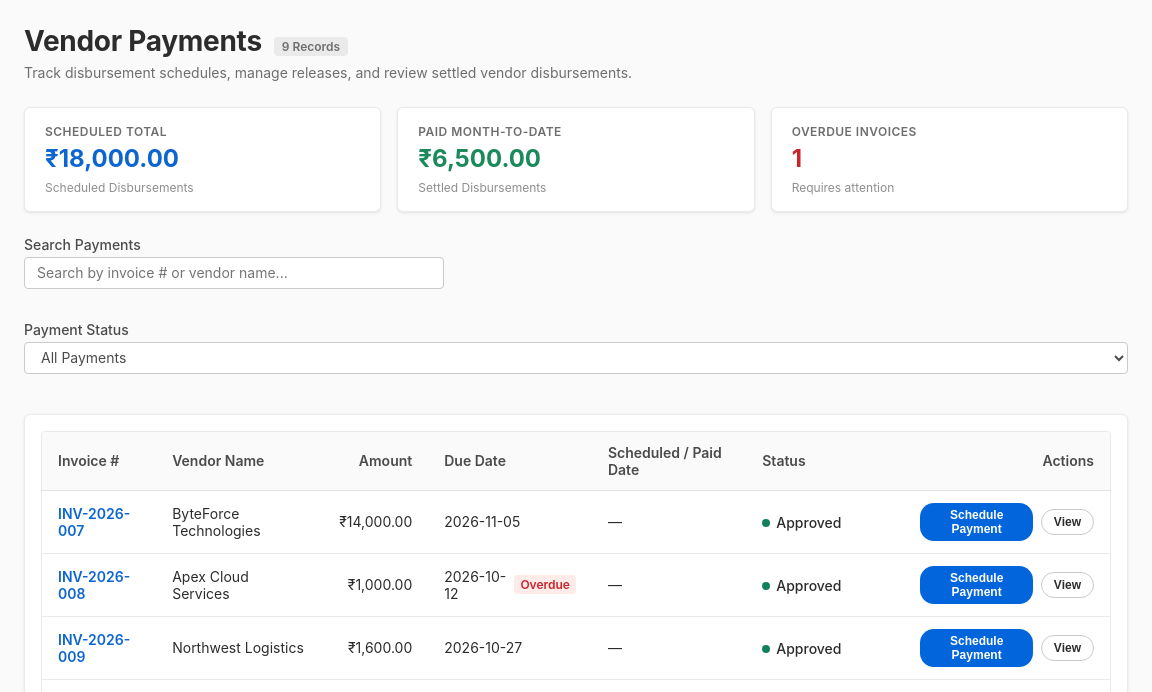
Scenario: PaymentsPage › Filtering & Search › filters payments table by status tabs or select
Expected: the text "INV-2026-007" is shown, [58,505,130,539]
# Filter by Payment Scheduled
Select "Payment Scheduled" in the dropdown with test id "payments-status-filter" at (576, 358), box [24,342,1128,374]
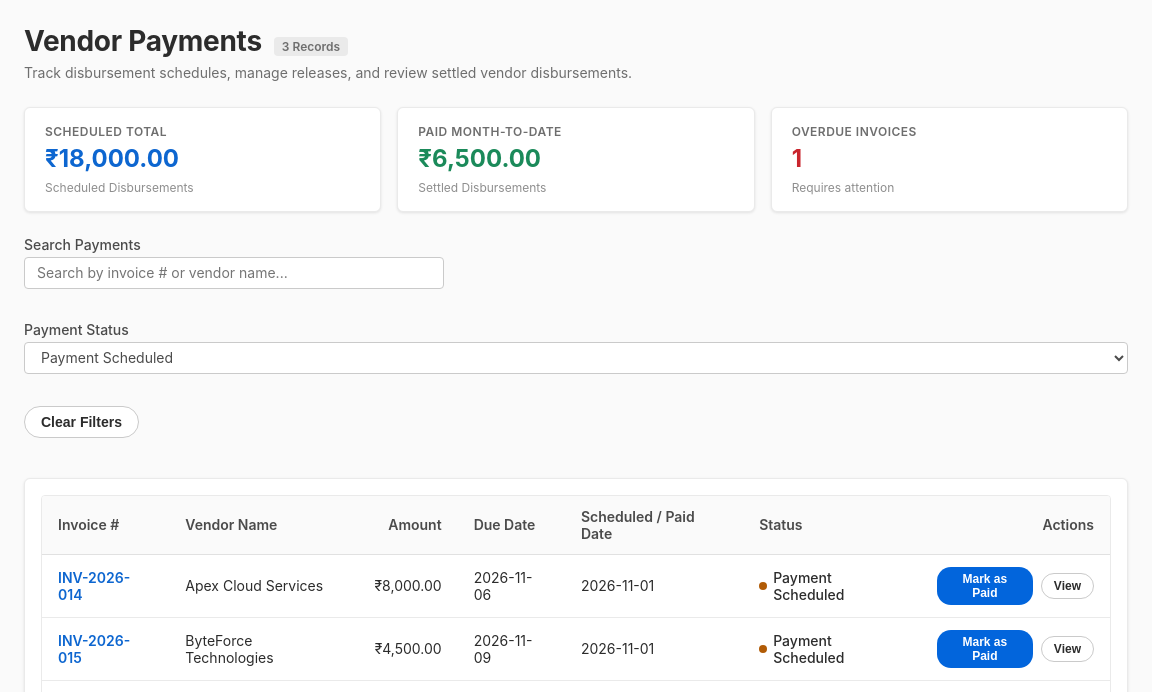
Expected: the text "INV-2026-014" is shown, [58,569,130,603]
Result: the text "INV-2026-007" is gone
# Filter by Paid
Select "Paid" in the dropdown with test id "payments-status-filter" at (576, 358), box [24,342,1128,374]
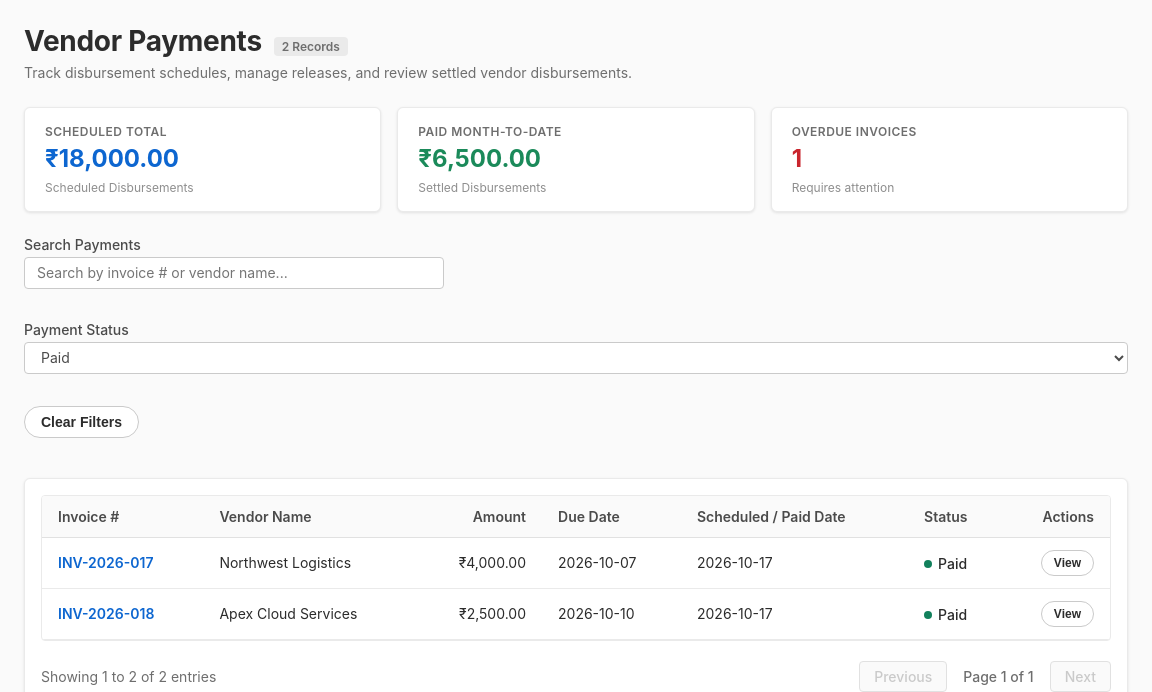
Result: the text "INV-2026-017" is shown at [58,554,154,571]
Result: the text "INV-2026-014" is gone
# Filter by Approved (Awaiting Scheduling)
Select "Approved (Awaiting Scheduling)" in the dropdown with test id "payments-status-filter" at (576, 358), box [24,342,1128,374]
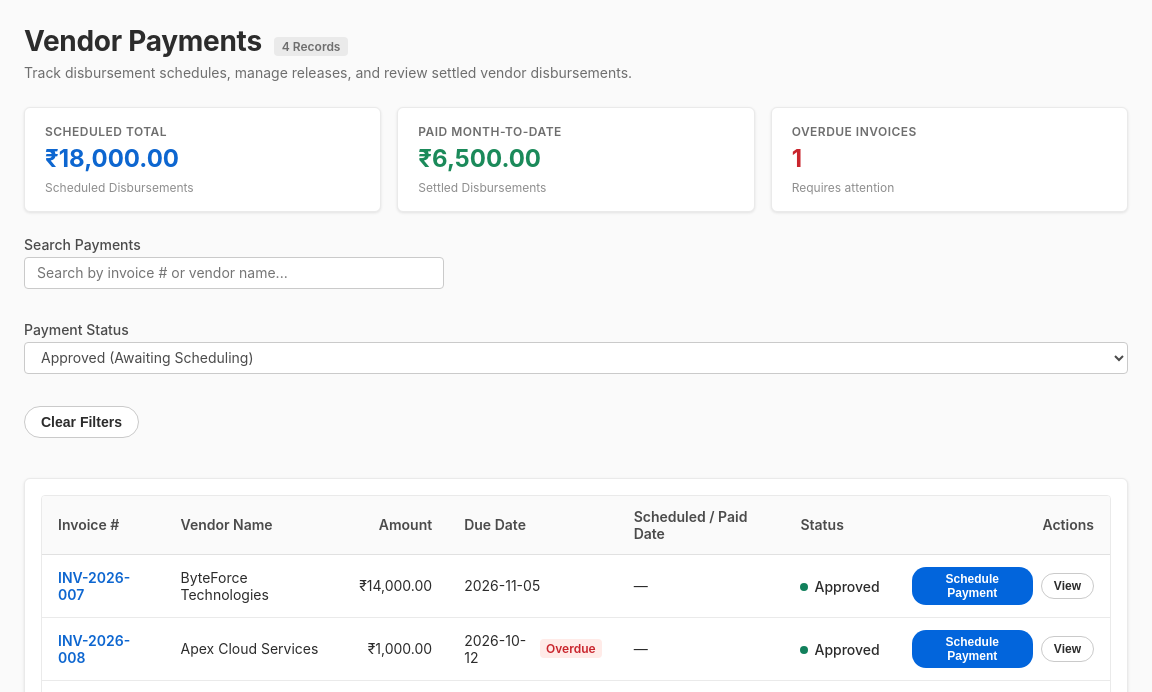
Result: the text "INV-2026-007" is shown at [58,569,130,603]
Result: the text "INV-2026-017" is gone
